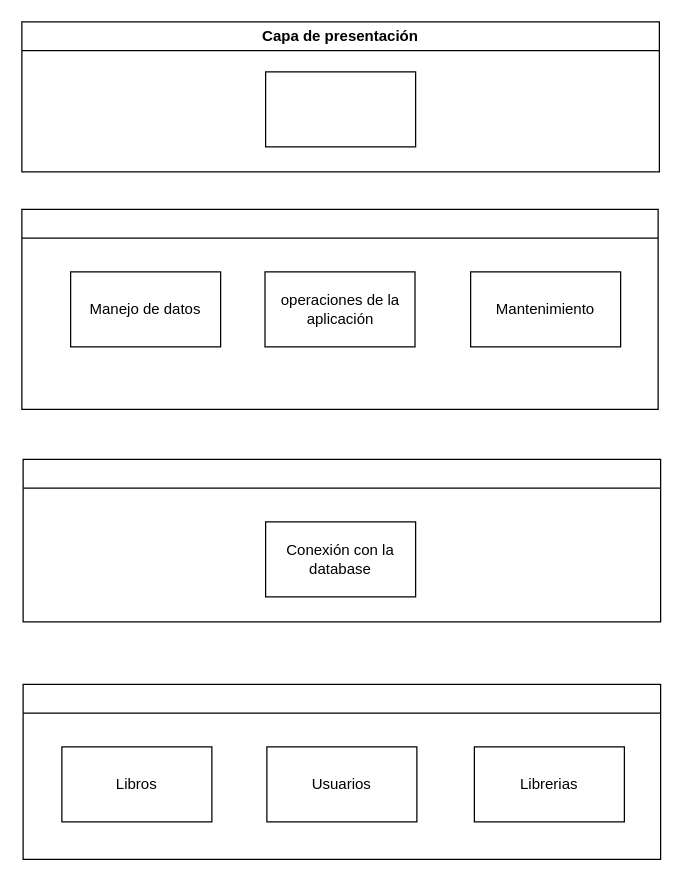
Image size: 683x881. Some labels were removed from this diagram. Each missing label, with the box of its shape:
Capa de aplicación: (21, 208, 658, 409)
Capa de comunicación: (22, 458, 661, 622)
Capa de database: (22, 683, 661, 859)
Interfaz de usuario: (264, 71, 416, 147)
